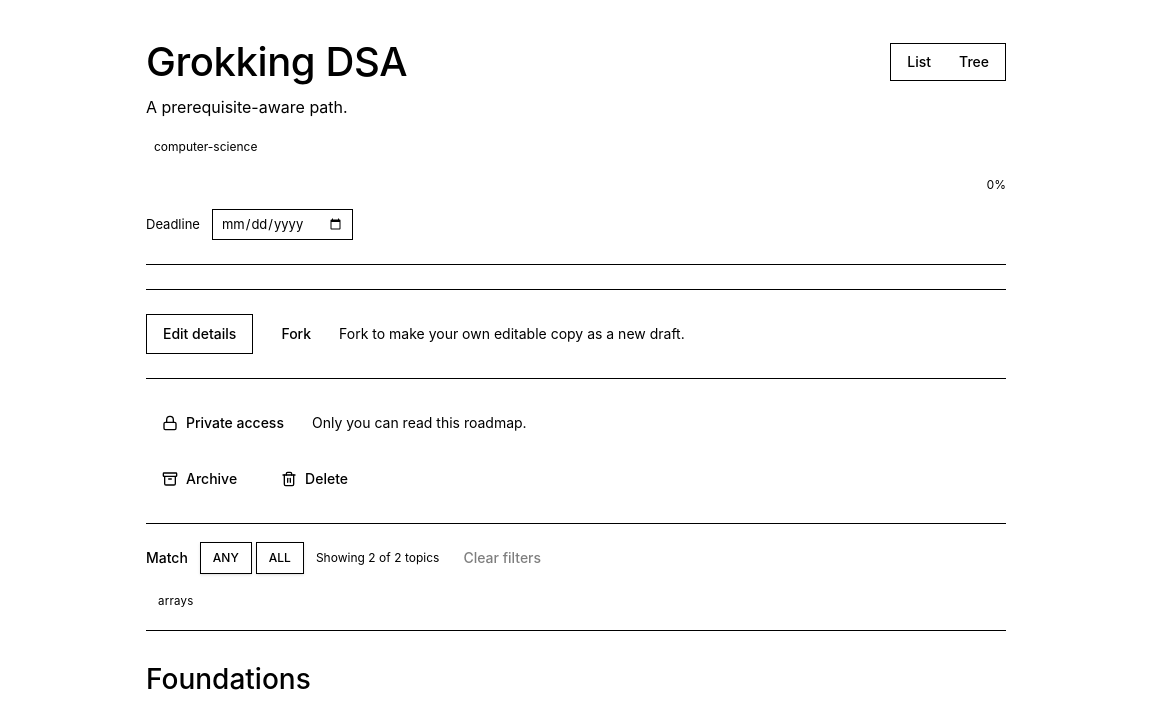
RoadmapView deadline countdown › surfaces a quiet inline notice and reverts when a deadline write fails (500)
The width and height of the screenshot is (1152, 708).
Type "2026-12-01" into the date field named "Deadline" at [282, 224], box x1=212 y1=209 x2=353 y2=240
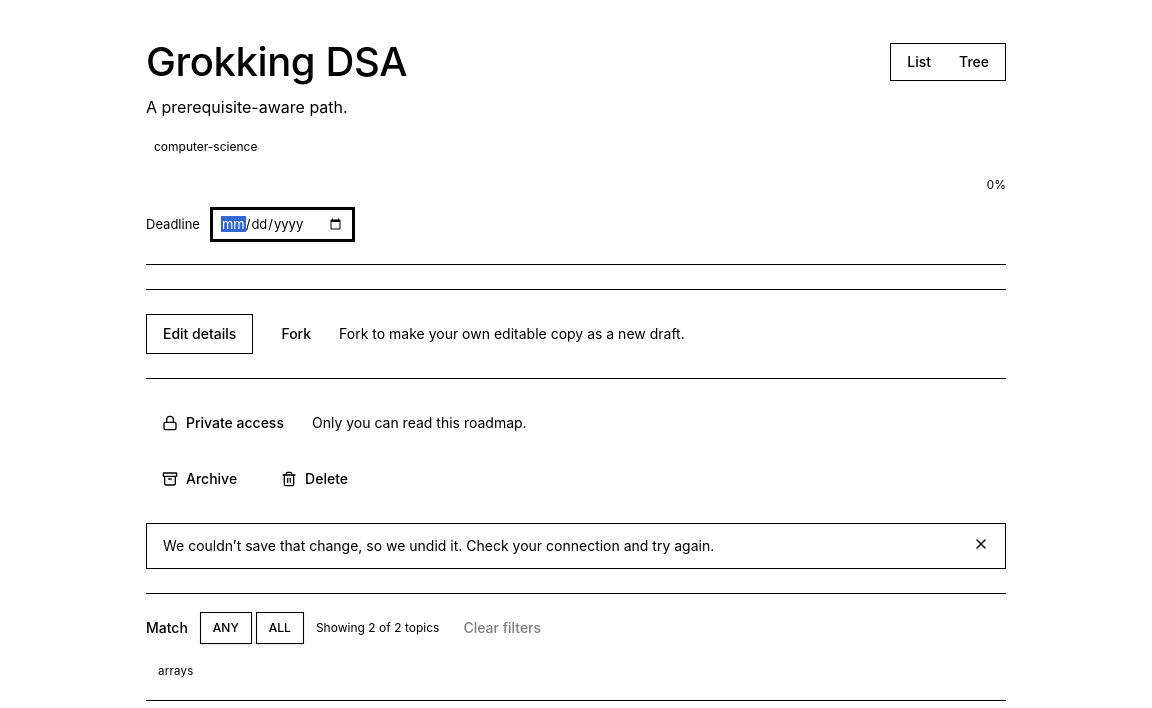
Expected: the message shows "couldn.t save that change", x1=163 y1=537 x2=714 y2=554
